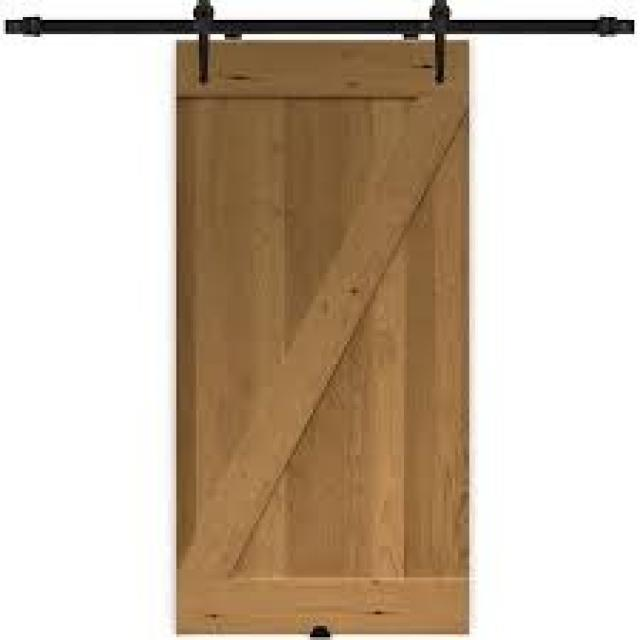door: (174, 38, 472, 636)
